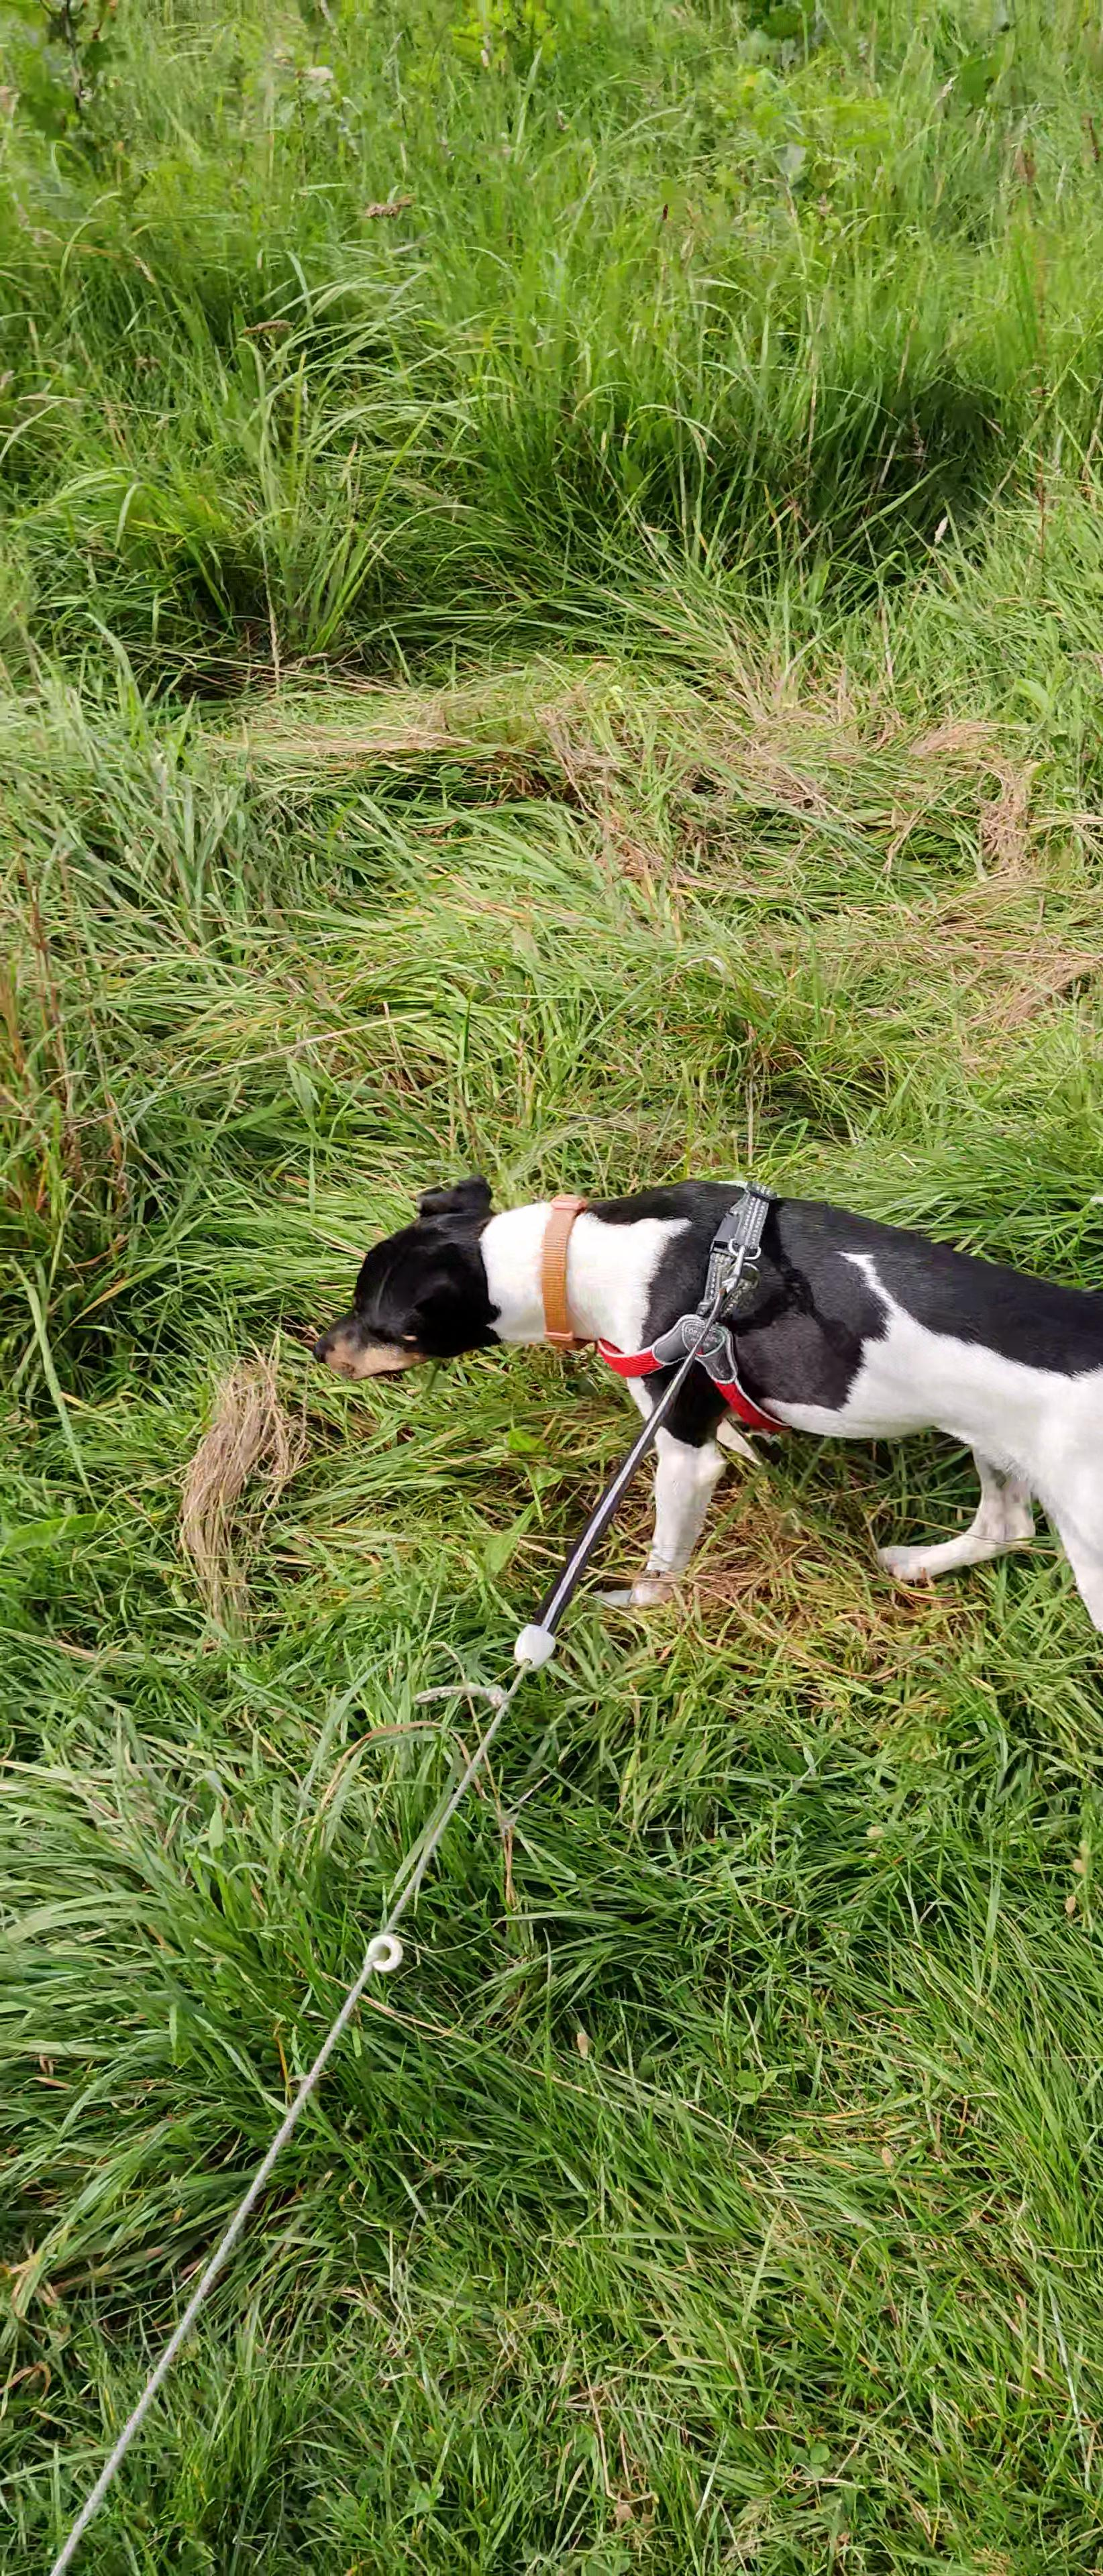Dog: (293, 1170, 1103, 1648)
